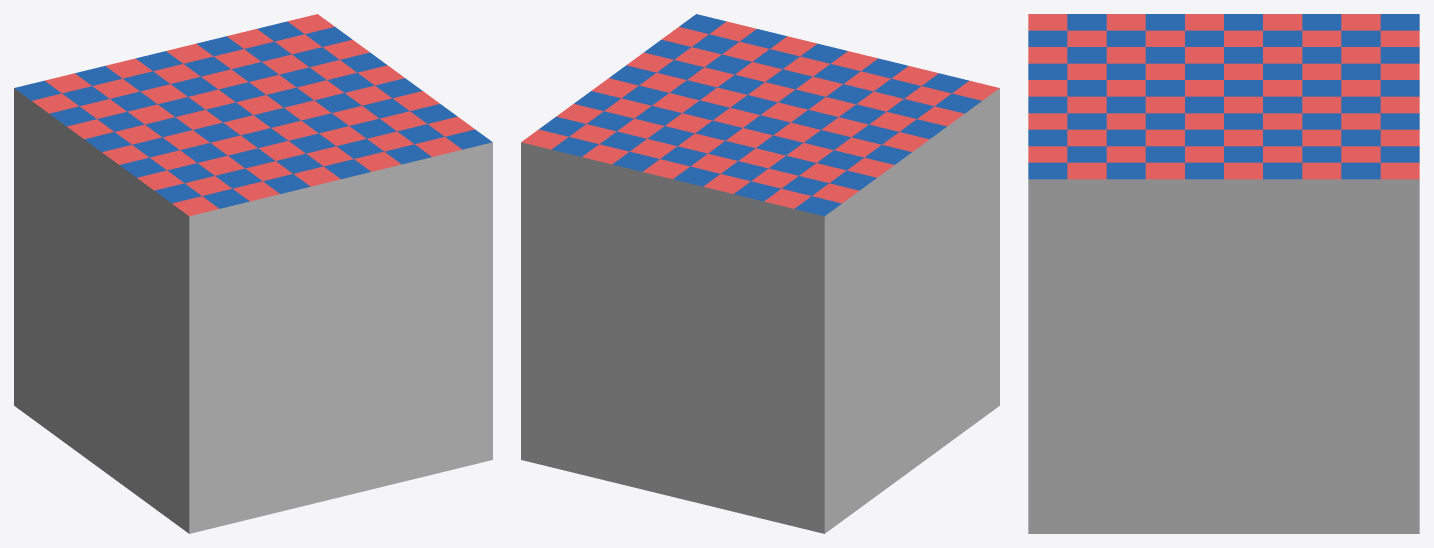
Rendered from Cube_Cheker_9x9.fbx.
The picture shows the model from 3 angles, left to right: view 1: azimuth 30°, elevation 25°; view 2: azimuth 150°, elevation 25°; view 3: azimuth 270°, elevation 25°; orthographic projection. The views are drawn at different scales.
Parts seen in each view (by area): view 1: CubeForTile_05.1.2; view 2: CubeForTile_05.1.2; view 3: CubeForTile_05.1.2.
Boxes of the visible parts, box(x1,y1,x2,y2) form: CubeForTile_05.1.2: box(14, 14, 492, 533); CubeForTile_05.1.2: box(521, 14, 999, 533); CubeForTile_05.1.2: box(1028, 14, 1419, 533).
Size of the model in its own units: 200 by 200 by 200.
